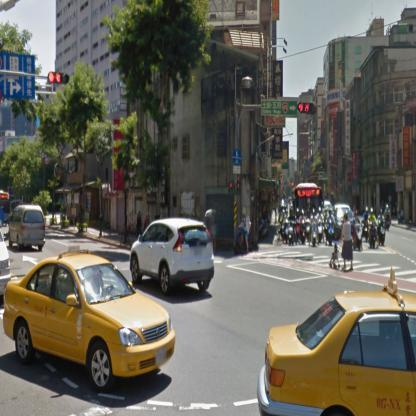Red Light: (46, 70, 72, 86), (296, 102, 316, 114)
